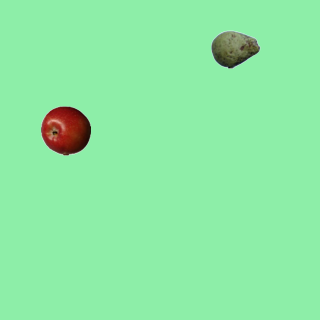Apple Braeburn: (40, 105, 90, 155)
Pear Stone: (210, 24, 260, 74)
